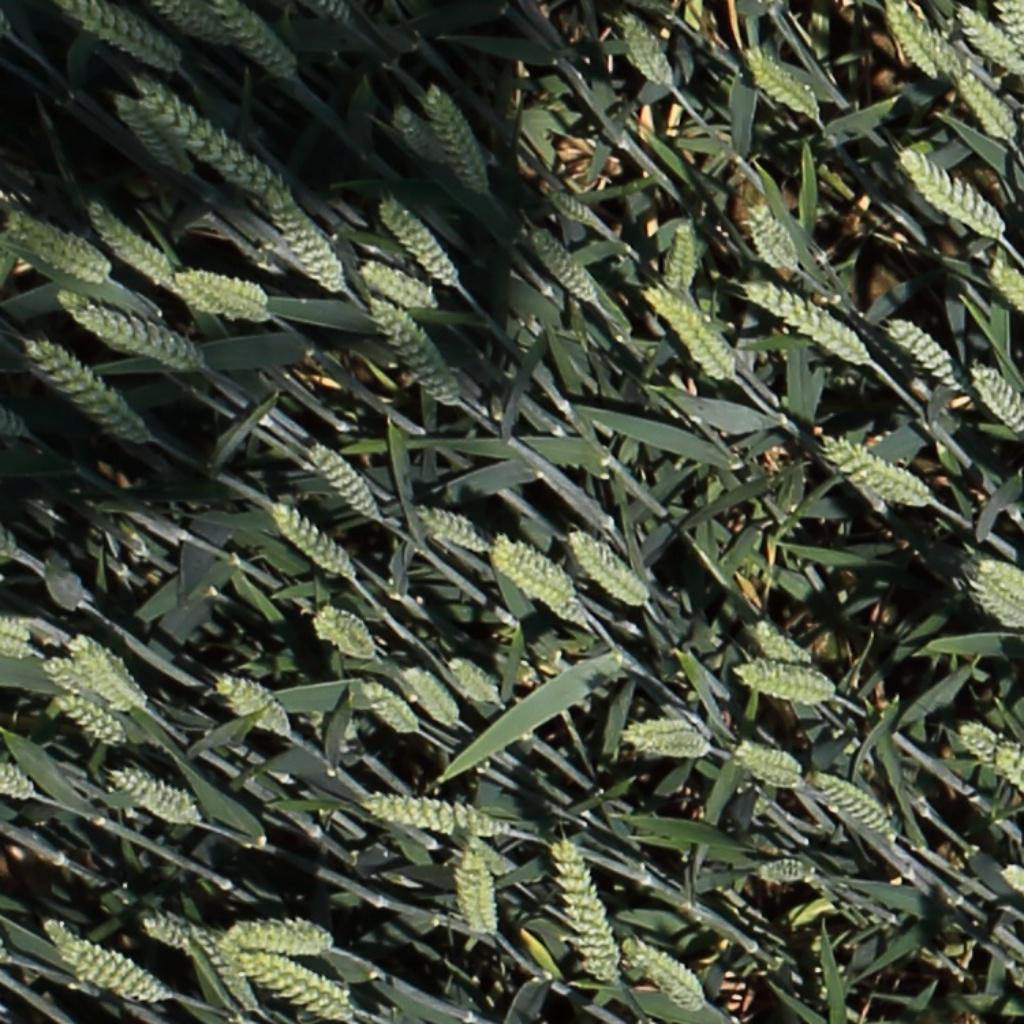0-0: (139, 88, 285, 189), (57, 289, 213, 378), (24, 339, 146, 442), (740, 281, 870, 367), (363, 289, 458, 405), (39, 918, 161, 1004), (548, 832, 617, 984), (895, 147, 1003, 236), (643, 281, 735, 380), (372, 192, 458, 289), (260, 191, 342, 290), (58, 1, 176, 68), (820, 438, 934, 507), (363, 780, 501, 836), (421, 81, 488, 196), (191, 921, 270, 1018), (83, 197, 172, 283), (5, 210, 107, 279), (887, 315, 974, 395), (110, 88, 188, 176), (303, 439, 382, 524), (267, 502, 352, 581), (234, 954, 345, 1014), (107, 763, 210, 826), (64, 636, 154, 708), (212, 1, 293, 80), (565, 531, 648, 608), (811, 771, 902, 841), (223, 906, 356, 953), (488, 548, 578, 617), (525, 223, 599, 305), (742, 46, 819, 118), (613, 6, 675, 92), (883, 0, 947, 81), (621, 940, 701, 1004), (954, 76, 1018, 155), (495, 537, 574, 600), (951, 5, 1015, 82), (458, 849, 512, 939), (215, 675, 289, 738), (741, 196, 798, 273), (397, 664, 461, 731), (618, 710, 708, 757), (968, 363, 1024, 436), (387, 101, 447, 166), (186, 275, 270, 320), (354, 679, 417, 737), (51, 697, 124, 746), (357, 260, 431, 307), (748, 618, 813, 670), (987, 740, 1024, 830), (415, 506, 487, 552), (44, 643, 101, 701), (154, 0, 223, 45), (442, 655, 499, 709), (666, 214, 703, 296), (970, 577, 1024, 633), (311, 610, 372, 659), (734, 670, 832, 700), (954, 712, 1002, 769), (731, 748, 802, 786), (977, 558, 1024, 615), (988, 259, 1024, 331), (547, 187, 598, 228), (996, 1, 1024, 75), (0, 600, 32, 660), (136, 917, 189, 953), (756, 854, 808, 884), (0, 763, 35, 804), (1000, 868, 1024, 922)
